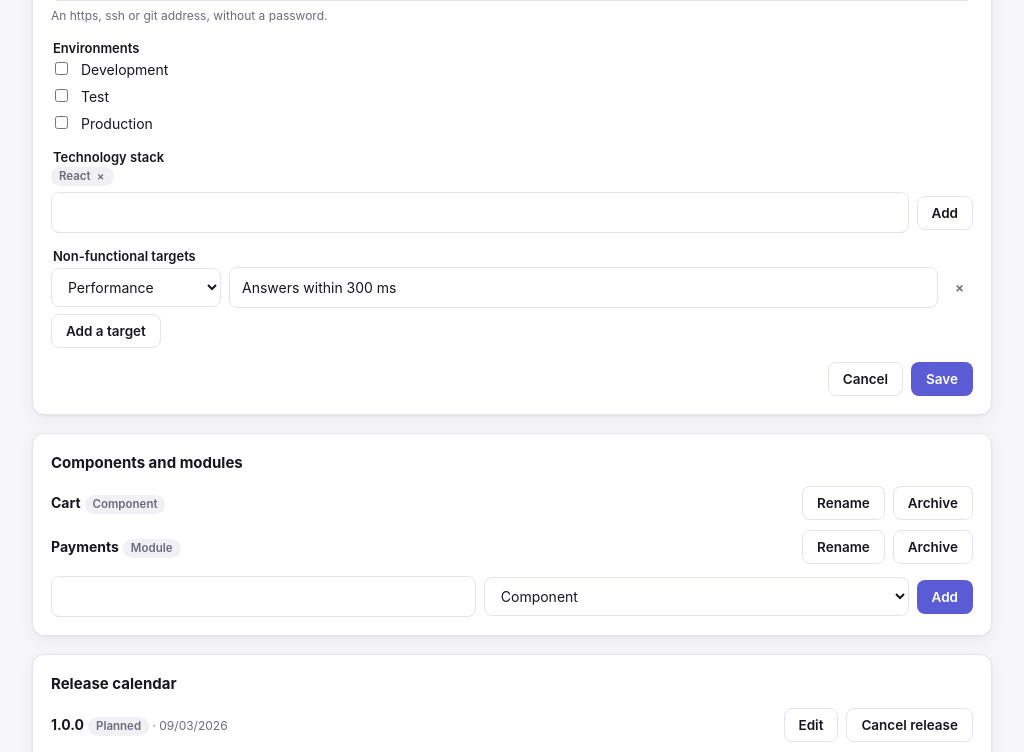
Test: the application page: definition › shows the API's refusal and keeps the form open
(page scrolled)
What coordinates should you click on to do the following:
click the button "Save"
I would click on:
 (942, 379)
Its box is [911, 362, 973, 396].
(page scrolled)
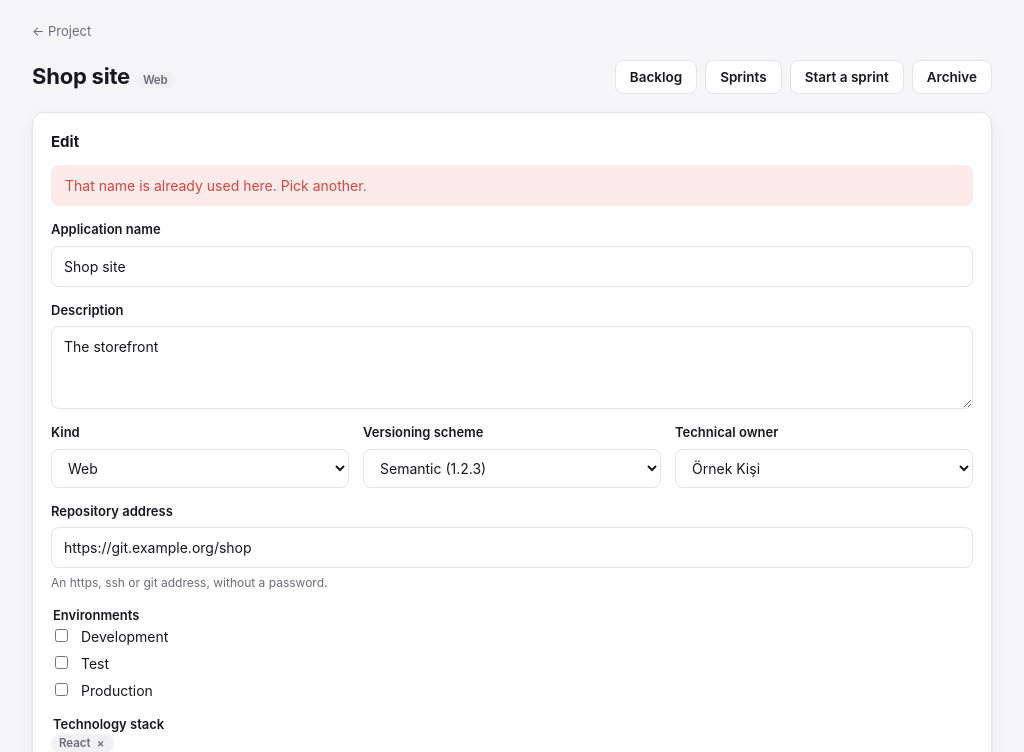
Expected: the text "That name is already used here. Pick another." is shown, [51, 165, 973, 206]
